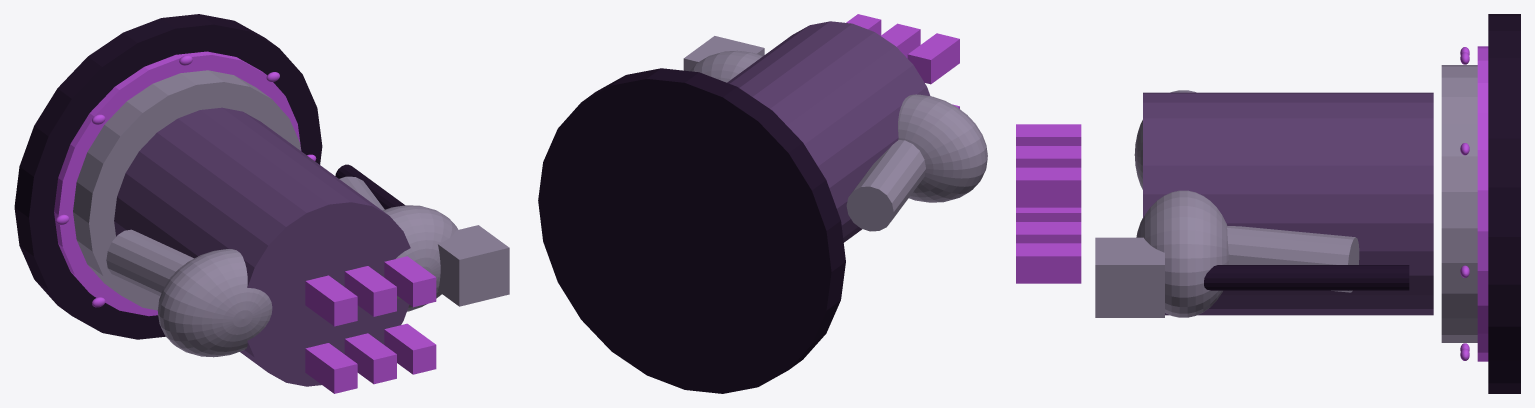
The model's file is villain_rook.glb.
The picture shows the model from 3 angles, left to right: view 1: azimuth 30°, elevation 25°; view 2: azimuth 150°, elevation 25°; view 3: azimuth 270°, elevation 25°; orthographic projection. The views are drawn at different scales.
Parts seen in each view (by area): view 1: body, base, base2, shoulder-1, ring1, hammer, arm-1, shoulder1, turret-0.22-0.18, turret-0.220.18, turret0.22-0.18, turret0-0.18 (+4 smaller); view 2: base, body, shoulder-1, arm-1, turret-0.220.18, shoulder1, hammer, turret00.18, turret0.220.18; view 3: body, base, base2, shoulder1, hammer, hammerrod, arm1, ring1, turret0.22-0.18, turret0.220.18, turret-0.220.18, turret00.18 (+3 smaller).
Part boxes in pixels (<box>): body: <box>114,107,410,386</box>; base: <box>14,14,322,339</box>; base2: <box>73,70,300,310</box>; shoulder-1: <box>157,249,272,357</box>; ring1: <box>54,51,301,316</box>; hammer: <box>438,225,509,306</box>; arm-1: <box>106,229,193,295</box>; shoulder1: <box>382,205,458,311</box>; turret-0.22-0.18: <box>305,343,357,393</box>; turret-0.220.18: <box>305,275,357,326</box>; turret0.22-0.18: <box>384,323,436,374</box>; turret0-0.18: <box>344,333,396,384</box>; base: <box>538,68,845,393</box>; body: <box>727,21,930,242</box>; shoulder-1: <box>898,94,987,202</box>; arm-1: <box>846,140,925,231</box>; turret-0.220.18: <box>907,33,959,84</box>; shoulder1: <box>690,50,762,82</box>; hammer: <box>683,36,764,71</box>; turret00.18: <box>881,23,920,58</box>; turret0.220.18: <box>846,14,881,35</box>; body: <box>1143,92,1433,315</box>; base: <box>1488,14,1520,393</box>; base2: <box>1441,65,1477,342</box>; shoulder1: <box>1136,190,1228,317</box>; hammer: <box>1095,237,1164,317</box>; hammerrod: <box>1204,265,1409,290</box>; arm1: <box>1227,226,1359,292</box>; ring1: <box>1477,46,1488,361</box>; turret0.22-0.18: <box>1016,243,1081,283</box>; turret0.220.18: <box>1016,167,1081,207</box>; turret-0.220.18: <box>1016,124,1081,145</box>; turret00.18: <box>1016,146,1081,167</box>.
Size of the model in its own units: 1.72 by 1.64 by 2.17.
